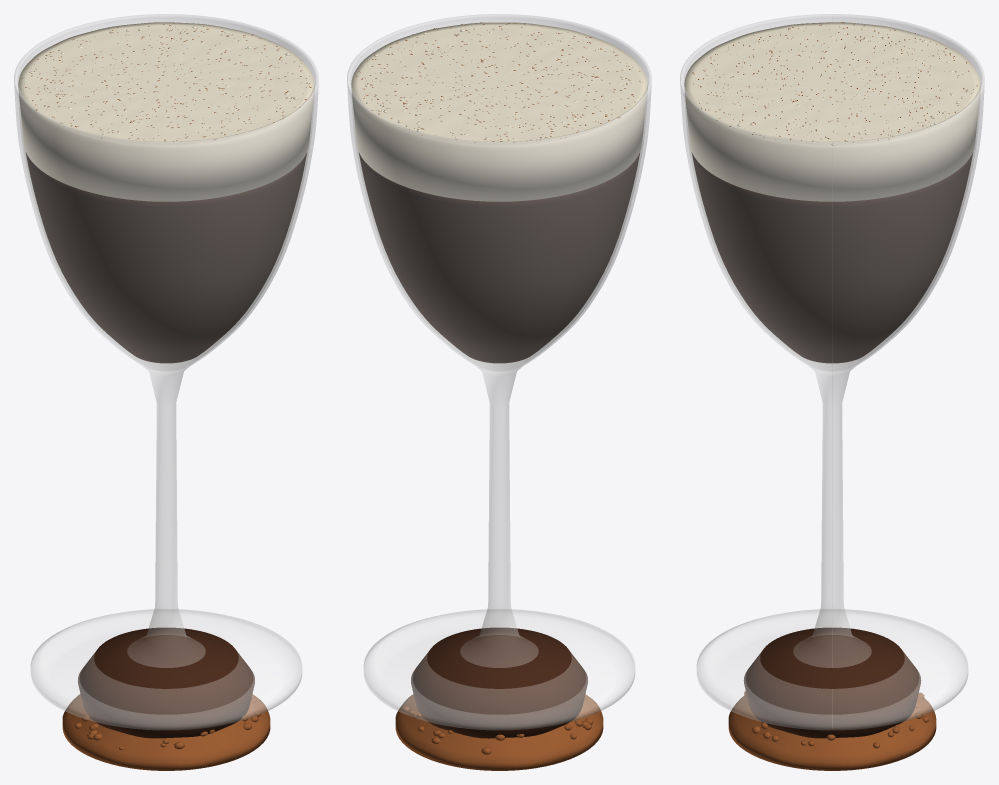
Rendered from atlas-espresso-martini.glb.
3 renders of one model, left to right at view 1: azimuth 30°, elevation 25°; view 2: azimuth 150°, elevation 25°; view 3: azimuth 270°, elevation 25°, orthographic.
Parts seen in each view (by area): view 1: glass, foam, liquid, recipe_coffee, recipe_cinnamon, garnish_cinnamon; view 2: glass, foam, liquid, recipe_coffee, recipe_cinnamon, garnish_cinnamon; view 3: glass, foam, liquid, recipe_coffee, recipe_cinnamon, garnish_cinnamon.
Part boxes in pixels (x1,y1,x2,y2): glass: (14,14,318,729); foam: (18,22,314,201); liquid: (26,153,306,363); recipe_coffee: (78,627,254,738); recipe_cinnamon: (62,694,270,770); garnish_cinnamon: (21,23,311,141); glass: (347,14,651,729); foam: (351,22,647,201); liquid: (359,153,639,363); recipe_coffee: (411,627,587,738); recipe_cinnamon: (395,694,603,770); garnish_cinnamon: (356,22,639,142); glass: (680,14,984,730); foam: (684,22,980,201); liquid: (692,153,972,363); recipe_coffee: (744,627,920,738); recipe_cinnamon: (728,691,936,770); garnish_cinnamon: (692,22,977,142).
Bounding box in the file's own units: 1.1 × 2.58 × 1.1.
